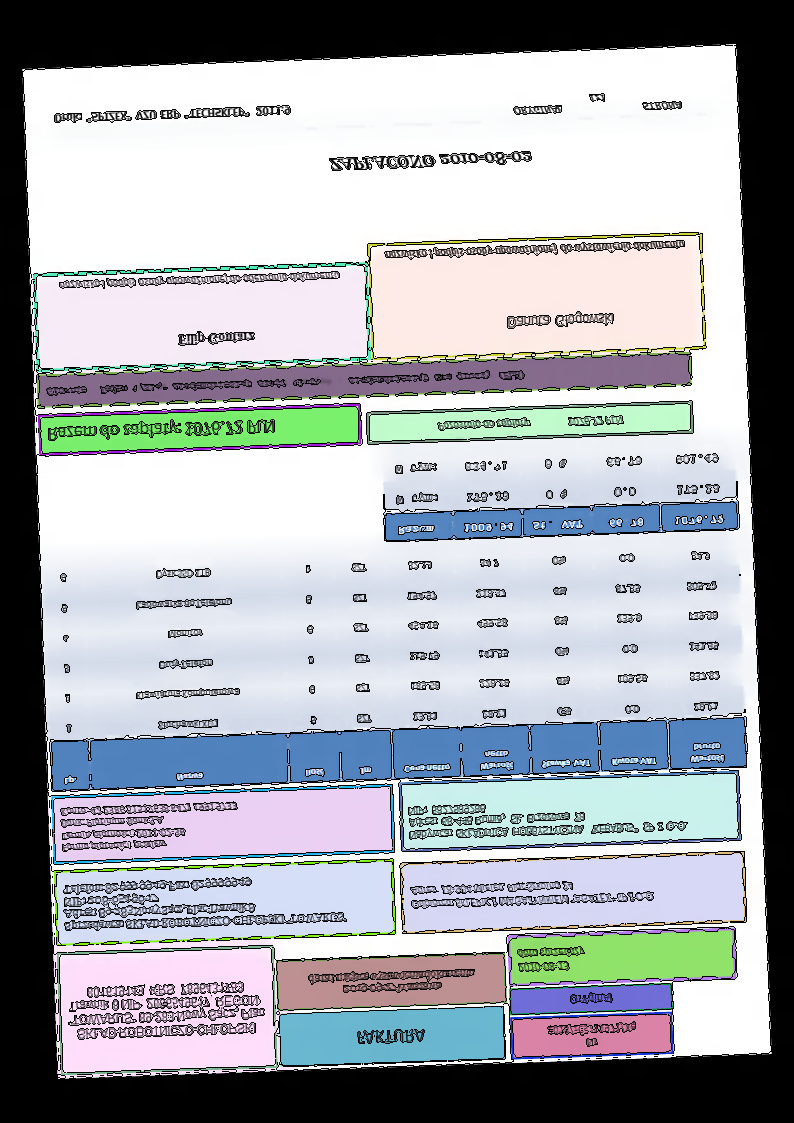Table: (42, 533, 746, 793), (381, 438, 741, 543)
TextBox: (60, 872, 348, 935), (44, 368, 525, 399), (405, 795, 692, 843), (64, 979, 268, 1042), (58, 798, 240, 855), (408, 875, 657, 911), (382, 238, 686, 263), (57, 269, 341, 292), (46, 416, 276, 444), (324, 147, 534, 174), (305, 966, 480, 997), (53, 103, 293, 125), (511, 89, 685, 117), (436, 413, 626, 434), (545, 1019, 639, 1049), (505, 309, 615, 330), (515, 944, 587, 975), (354, 1025, 426, 1047), (176, 329, 256, 348), (567, 990, 614, 1008)
